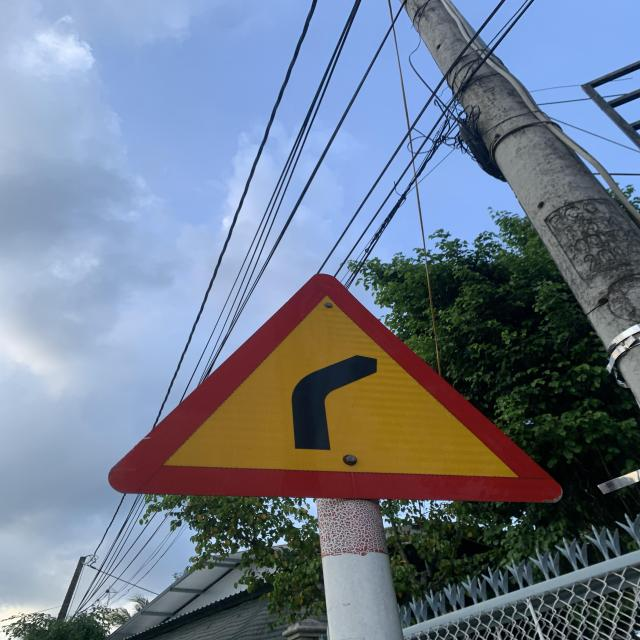Duong_Nguoi_Di_Bo_Cat_Ngang: (100, 270, 565, 506)
